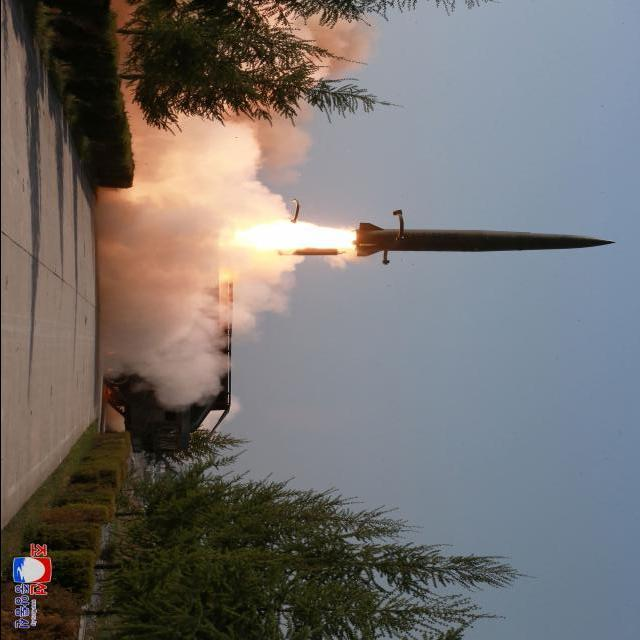missile: (335, 202, 619, 284)
